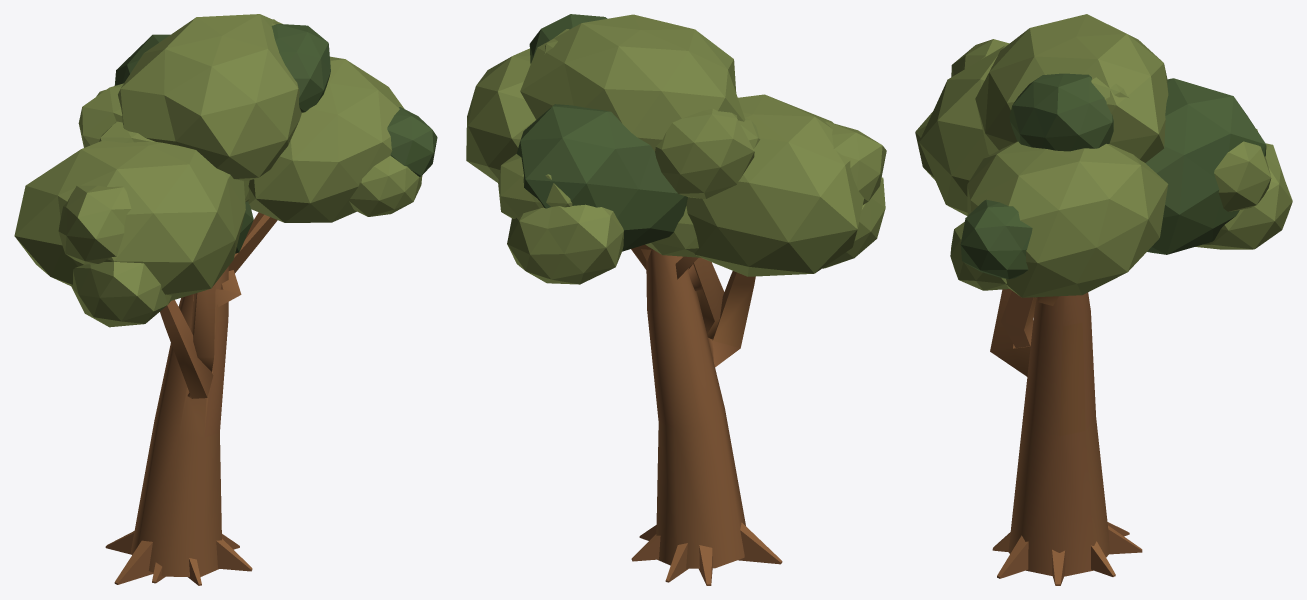
File: tree_oak_a.glb
The picture shows the model from 3 angles, left to right: view 1: azimuth 30°, elevation 25°; view 2: azimuth 150°, elevation 25°; view 3: azimuth 270°, elevation 25°; orthographic projection. The views are drawn at different scales.
Visible parts, largest first — view 1: tree_oak_a_LOD0; view 2: tree_oak_a_LOD0; view 3: tree_oak_a_LOD0.
Boxes of the visible parts, <box> form: tree_oak_a_LOD0: <box>14,14,437,585</box>; tree_oak_a_LOD0: <box>466,14,886,585</box>; tree_oak_a_LOD0: <box>915,14,1292,585</box>.
Size of what is drawn, in the model's own units: 4.58 by 5.81 by 3.62.
